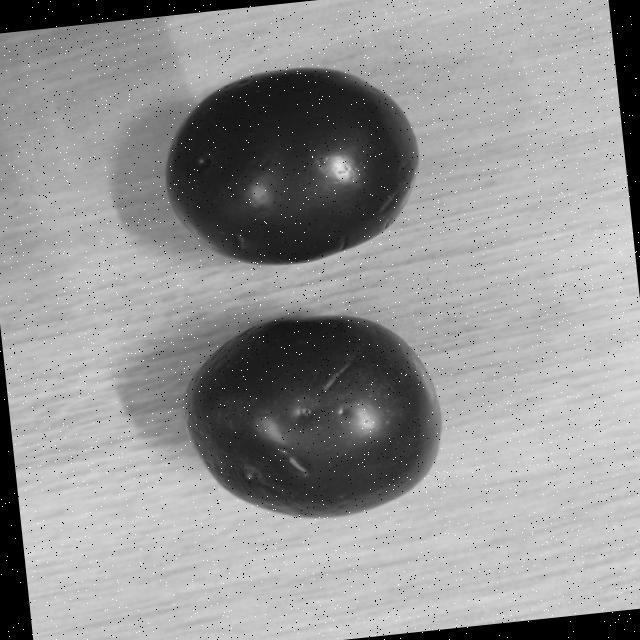Ripe: (168, 297, 457, 538), (145, 50, 430, 279)
